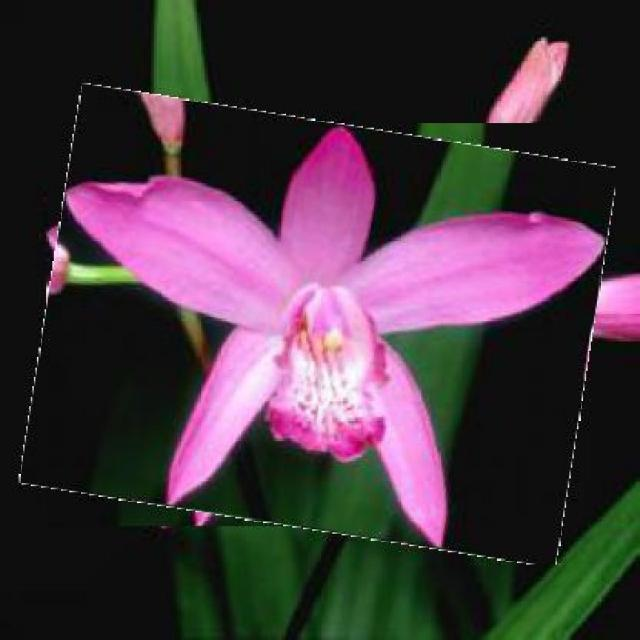Flower: (32, 104, 603, 547)
